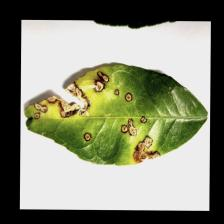canker: (22, 66, 160, 165)
